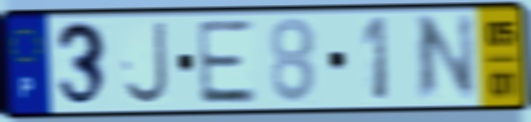1: (359, 13, 390, 106)
3: (53, 17, 113, 111)
8: (267, 14, 321, 107)
E: (193, 17, 260, 107)
J: (121, 18, 172, 108)
N: (414, 12, 479, 106)
